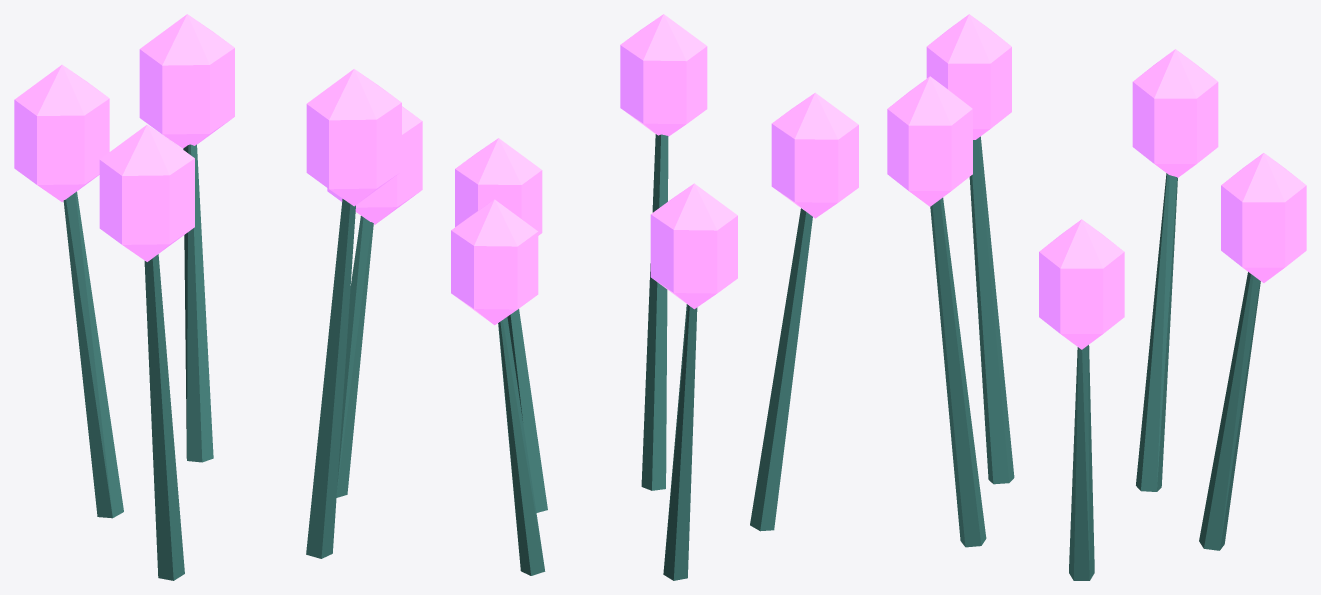
Rendered from Nature_Glow_Reeds_02.glb.
3 views of the same model, side by side, from view 1: azimuth 30°, elevation 25°; view 2: azimuth 150°, elevation 25°; view 3: azimuth 270°, elevation 25° (orthographic). The views are drawn at different scales.
Visible parts, largest first — view 1: Nature_Glow_Reeds_02; view 2: Nature_Glow_Reeds_02; view 3: Nature_Glow_Reeds_02.
Boxes of the visible parts, x1=… form: Nature_Glow_Reeds_02: x1=14, y1=14, x2=422, y2=580; Nature_Glow_Reeds_02: x1=451, y1=14, x2=858, y2=580; Nature_Glow_Reeds_02: x1=887, y1=14, x2=1306, y2=580.
Size of the model in its own units: 0.5189 by 0.6871 by 0.552.
